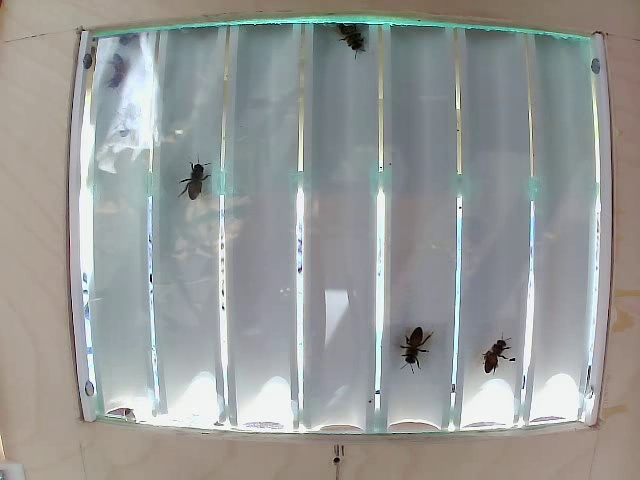bee: (474, 332, 511, 382), (176, 160, 219, 203), (394, 315, 430, 366), (327, 17, 376, 46)
